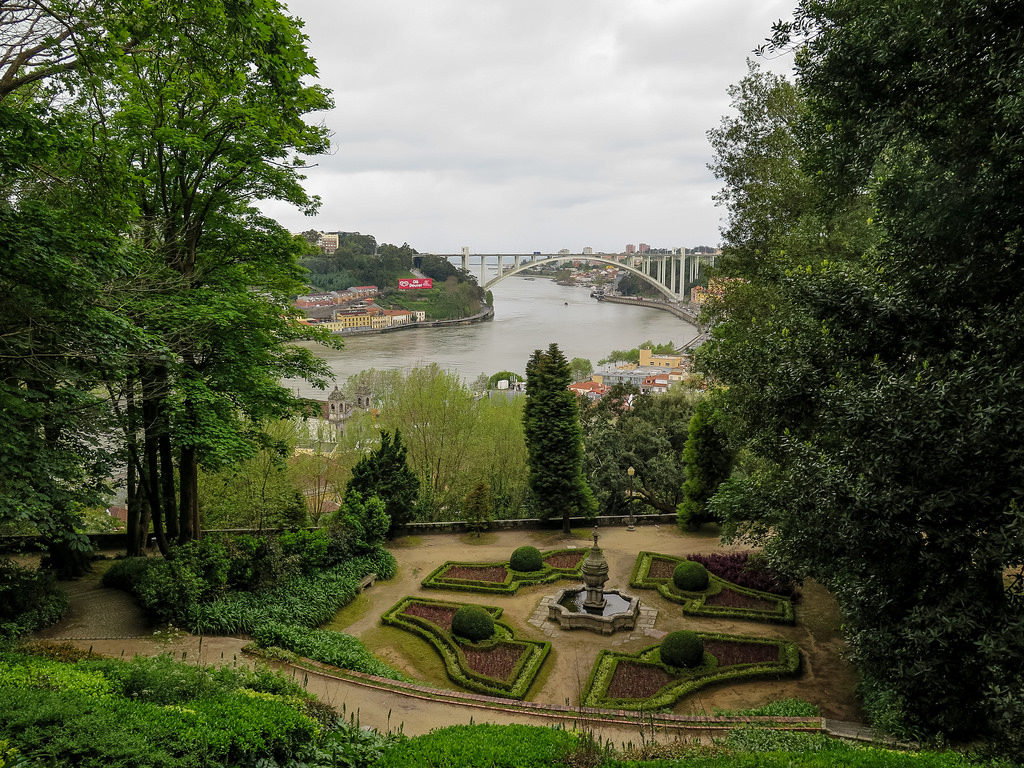arrabida: (428, 240, 719, 304)
